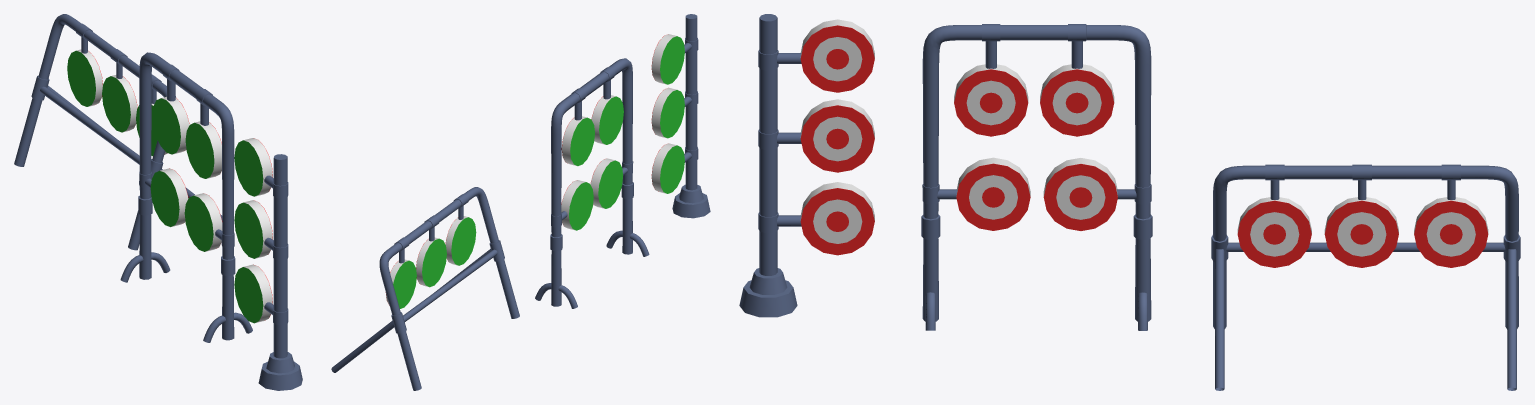
File: Aim2.fbx
3 views of the same model, side by side, from view 1: azimuth 30°, elevation 25°; view 2: azimuth 150°, elevation 25°; view 3: azimuth 270°, elevation 25° (orthographic). The views are drawn at different scales.
Visible parts, largest first — view 1: NurbsPath.003, NurbsPath.004, Cube.083, Cube.107, Cube.104, Cube.080, Cube.081, Cube.098, Cube.084, Cube.087, Cube.094, Cube.091 (+3 smaller); view 2: NurbsPath.004, NurbsPath.003, Cube.083, Cube.080, Cube.081, Cube.098, Cube.087, Cube.107, Cube.104, Cube.084, Cube.091, Cube.088 (+2 smaller); view 3: NurbsPath.003, NurbsPath.004, Cube.083, Cube.101, Cube.106, Cube.086, Cube.103, Cube.099, Cube.097, Cube.090, Cube.110, Cube.109 (+2 smaller).
Part boxes in pixels (x1=…): NurbsPath.003: x1=138, y1=52, x2=235, y2=340; NurbsPath.004: x1=14, y1=14, x2=222, y2=250; Cube.083: x1=258, y1=154, x2=302, y2=390; Cube.107: x1=150, y1=168, x2=188, y2=227; Cube.104: x1=184, y1=193, x2=222, y2=251; Cube.080: x1=234, y1=138, x2=272, y2=196; Cube.081: x1=234, y1=200, x2=272, y2=258; Cube.098: x1=234, y1=264, x2=272, y2=323; Cube.084: x1=185, y1=121, x2=221, y2=178; Cube.087: x1=152, y1=96, x2=189, y2=154; Cube.094: x1=67, y1=49, x2=102, y2=106; Cube.091: x1=102, y1=75, x2=137, y2=132; NurbsPath.004: x1=331, y1=187, x2=519, y2=390; NurbsPath.003: x1=550, y1=58, x2=633, y2=306; Cube.083: x1=672, y1=14, x2=710, y2=218; Cube.080: x1=651, y1=34, x2=684, y2=84; Cube.081: x1=651, y1=88, x2=684, y2=138; Cube.098: x1=651, y1=143, x2=684, y2=193; Cube.087: x1=562, y1=116, x2=594, y2=166; Cube.107: x1=561, y1=180, x2=593, y2=230; Cube.104: x1=590, y1=158, x2=623, y2=208; Cube.084: x1=591, y1=95, x2=623, y2=144; Cube.091: x1=416, y1=237, x2=446, y2=287; Cube.088: x1=445, y1=216, x2=476, y2=265; NurbsPath.003: x1=921, y1=25, x2=1152, y2=321; NurbsPath.004: x1=1211, y1=165, x2=1520, y2=390; Cube.083: x1=739, y1=14, x2=797, y2=317; Cube.101: x1=800, y1=188, x2=874, y2=255; Cube.106: x1=956, y1=163, x2=1030, y2=230; Cube.086: x1=954, y1=69, x2=1028, y2=136; Cube.103: x1=1040, y1=69, x2=1114, y2=136; Cube.099: x1=800, y1=25, x2=874, y2=92; Cube.097: x1=800, y1=105, x2=874, y2=172; Cube.090: x1=1237, y1=200, x2=1311, y2=267; Cube.110: x1=1414, y1=200, x2=1488, y2=267; Cube.109: x1=1043, y1=164, x2=1117, y2=230.
Bounding box in the file's own units: 0.1594 × 0.2413 × 0.5759.
